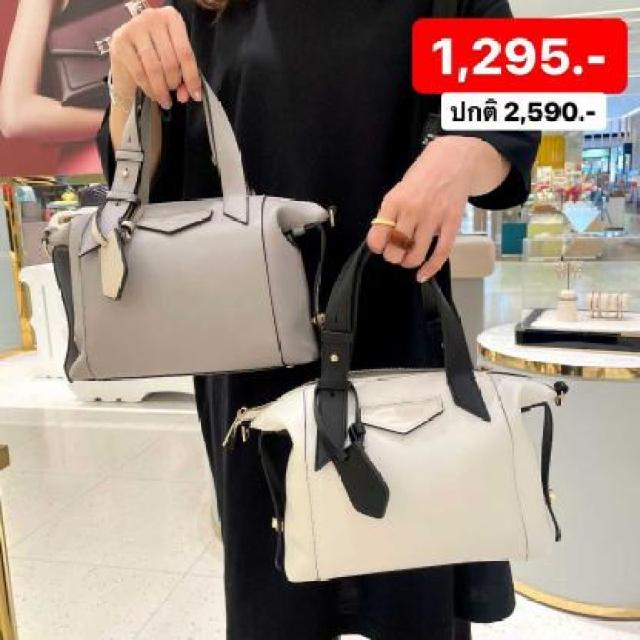Bag: (236, 152, 598, 594), (28, 37, 406, 405)
